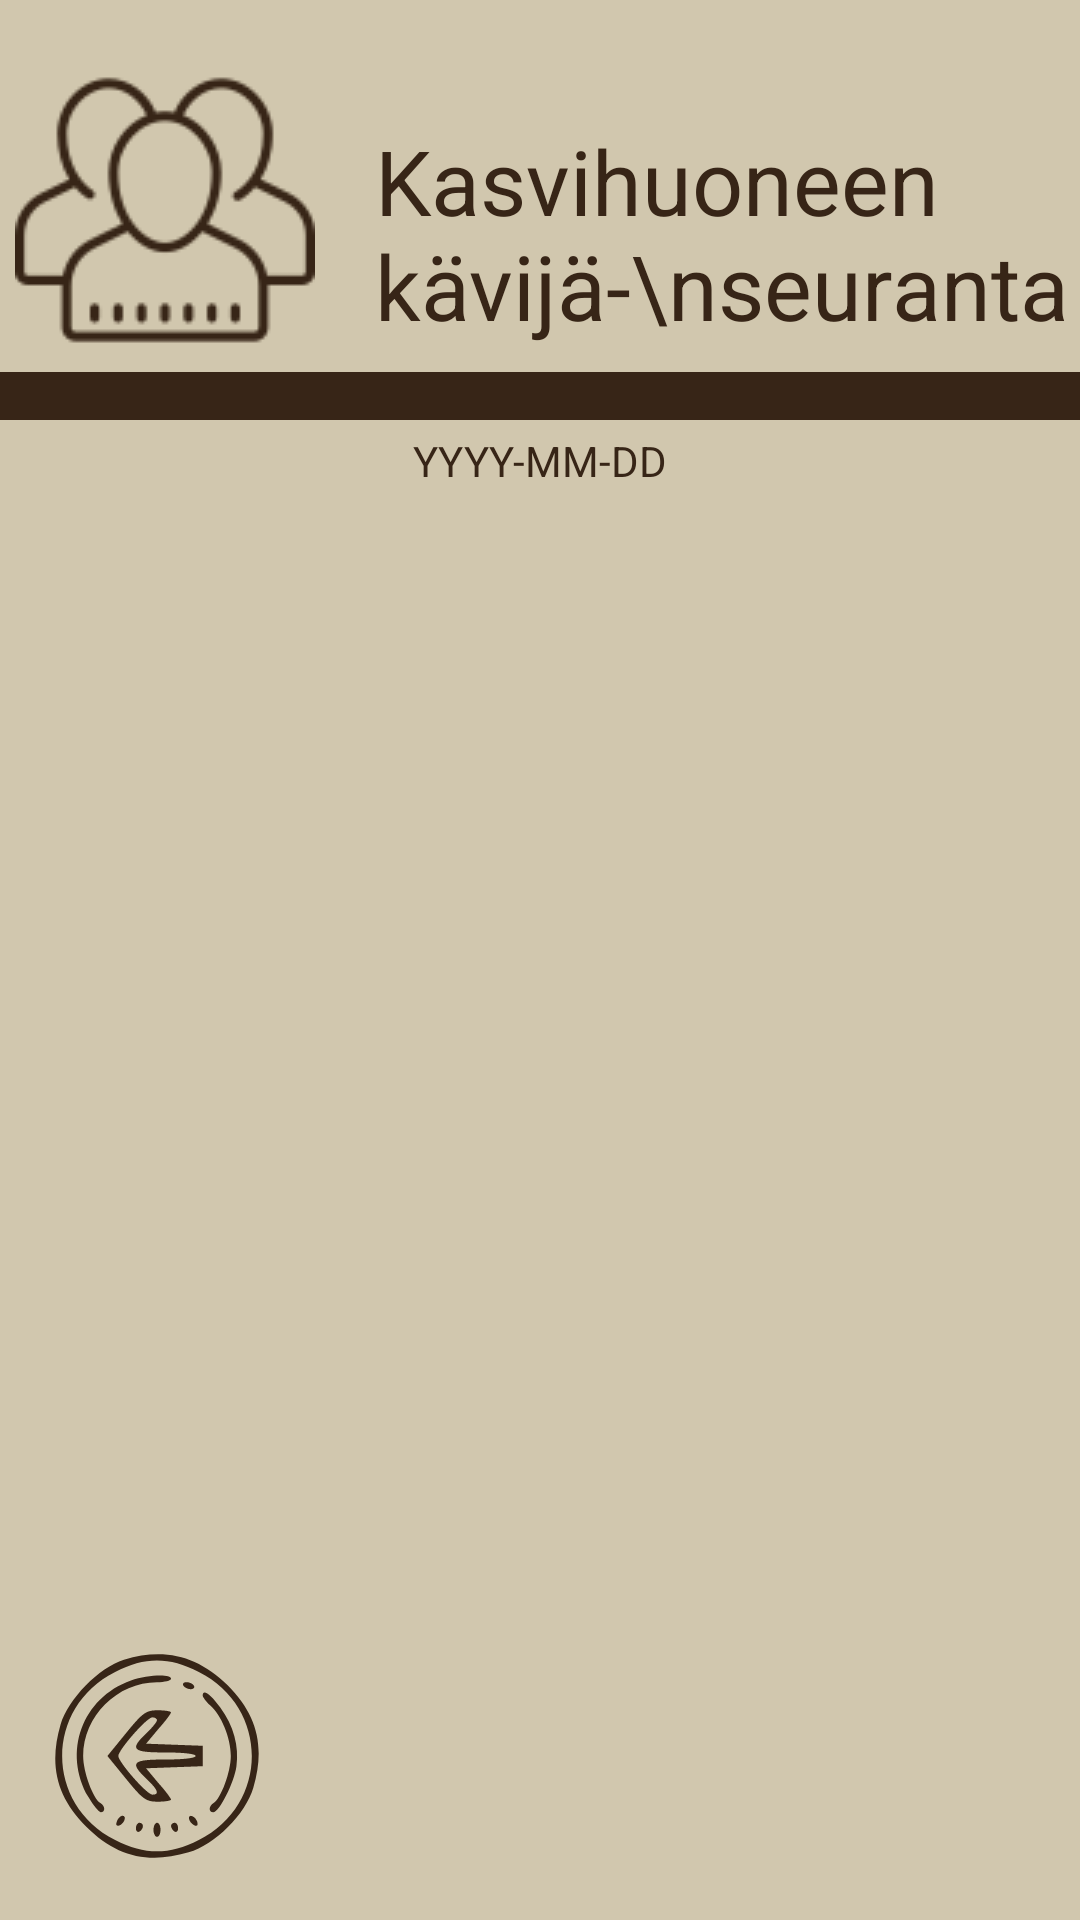

Icons on this 1080x1920 Android screen, each with its box as {"left": x1, "top": y1, "right": x2, "bottom": y2}:
arrow: {"left": 55, "top": 1654, "right": 259, "bottom": 1858}
